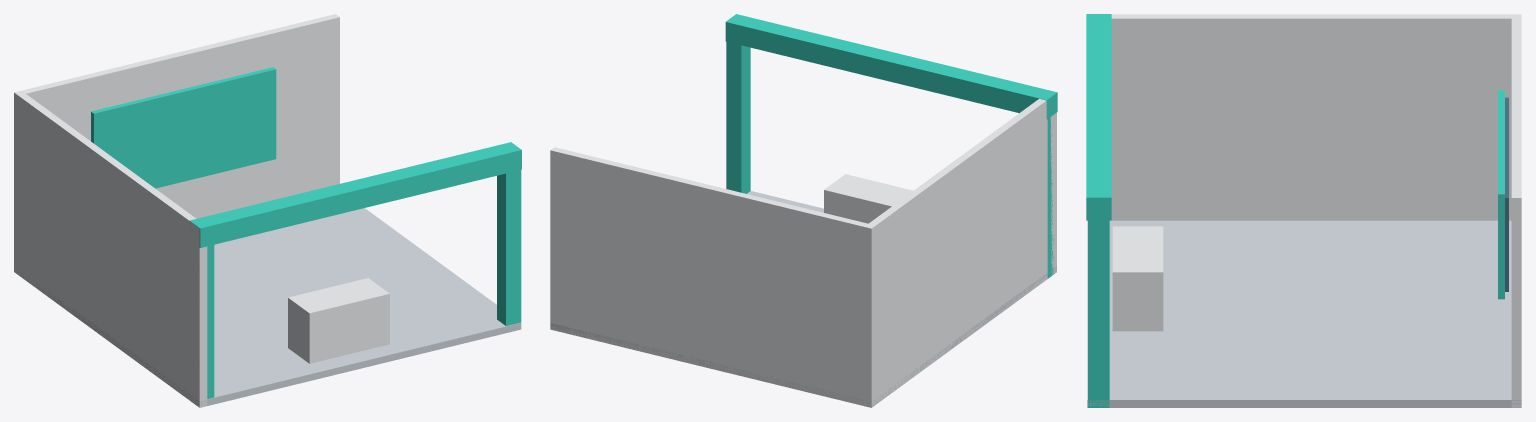
3 renders of one model, left to right at view 1: azimuth 30°, elevation 25°; view 2: azimuth 150°, elevation 25°; view 3: azimuth 270°, elevation 25°, orthographic. The views are drawn at different scales.
Parts seen in each view (by area): view 1: Exhibition Booth Concept; view 2: Exhibition Booth Concept; view 3: Exhibition Booth Concept.
Boxes of the visible parts, box(x1,y1,x2,y2) form: Exhibition Booth Concept: box(14, 14, 521, 407); Exhibition Booth Concept: box(550, 14, 1057, 407); Exhibition Booth Concept: box(1086, 14, 1521, 407).
Size of the model in its own units: 6 by 3.2 by 6.02.
